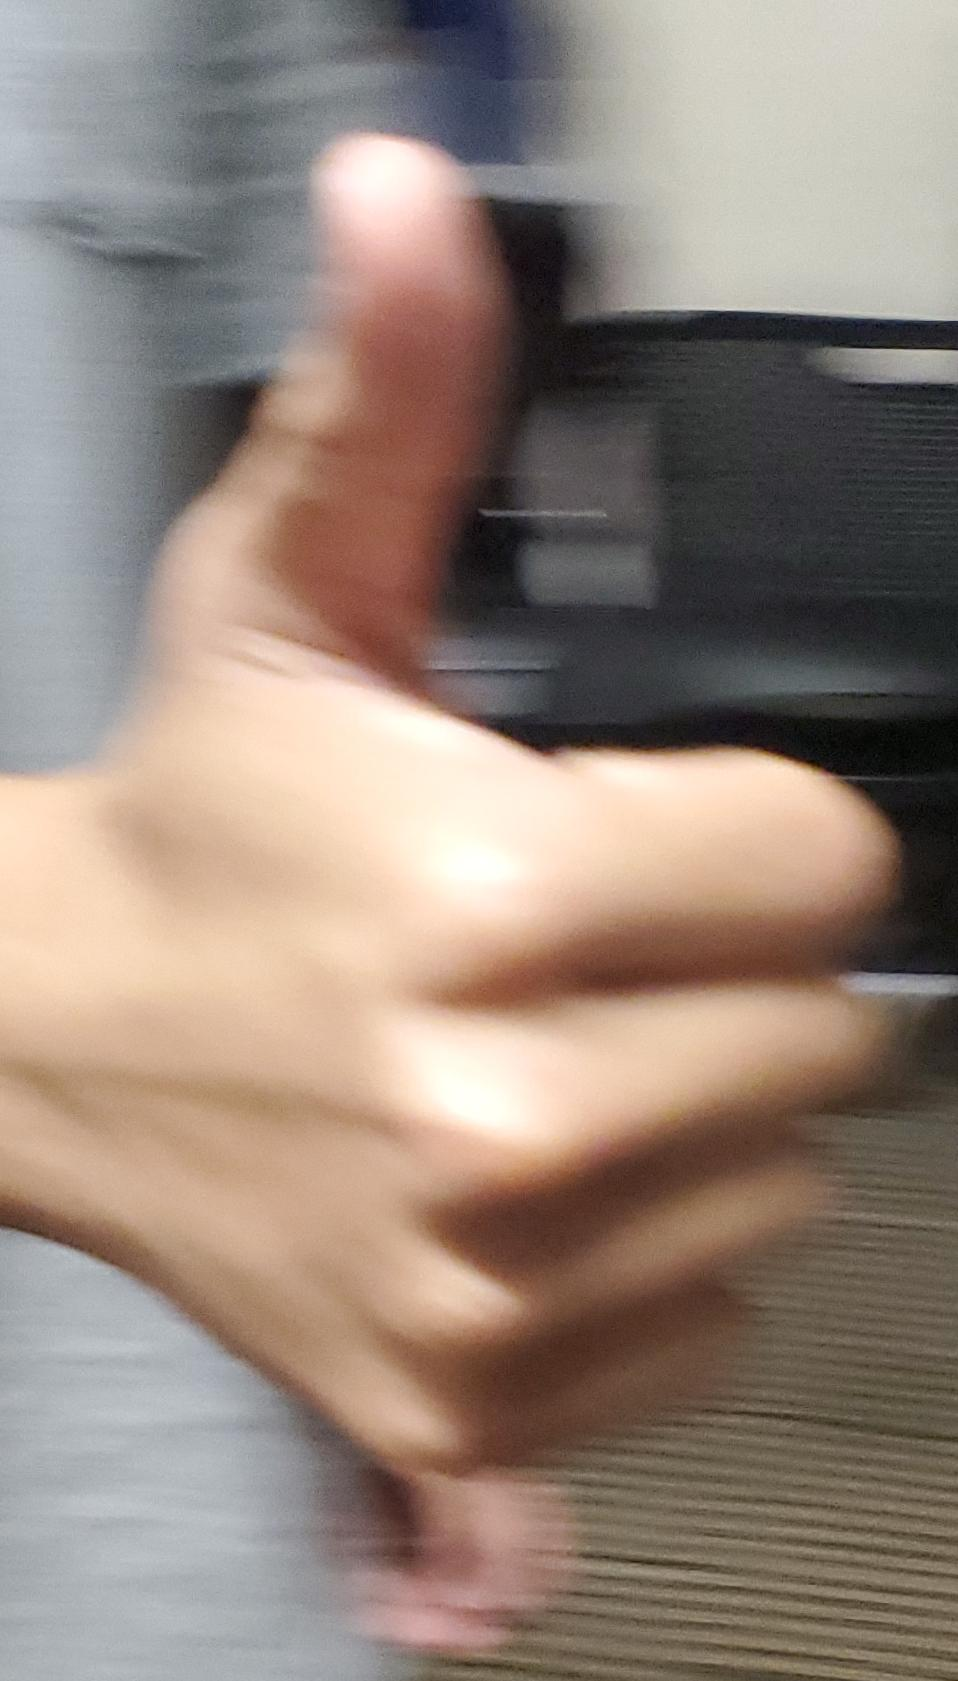up: (0, 1, 958, 1681)
